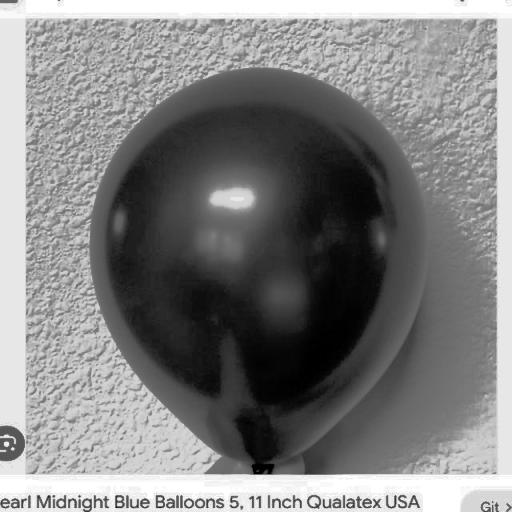balloon: (90, 66, 431, 468)
